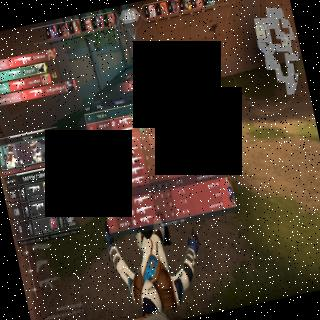ENEMY-BODY: (132, 42, 142, 65)
ENEMY-HEAD: (134, 44, 136, 48)
